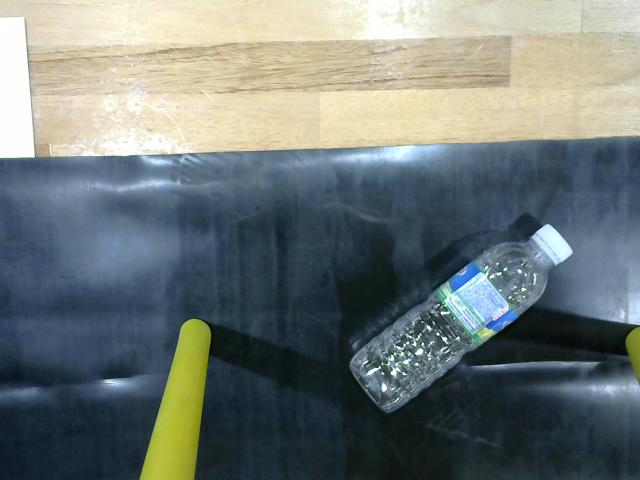bottle: (345, 213, 584, 421)
